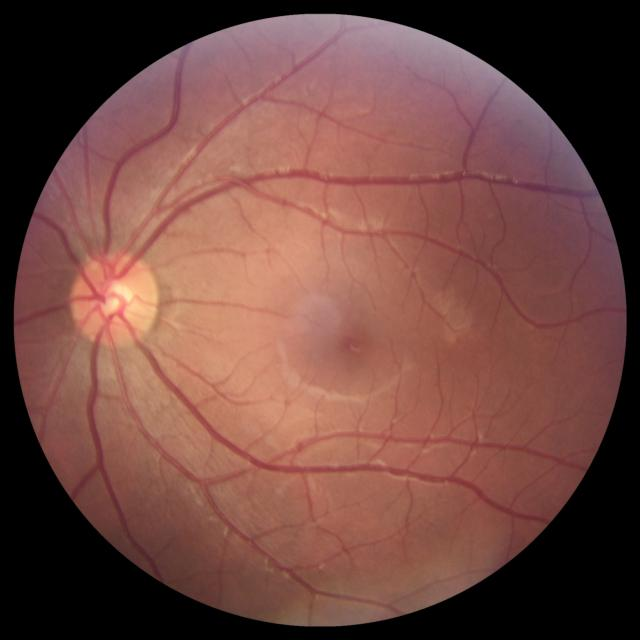OC: (94, 280, 134, 320)
OD: (70, 252, 160, 348)
